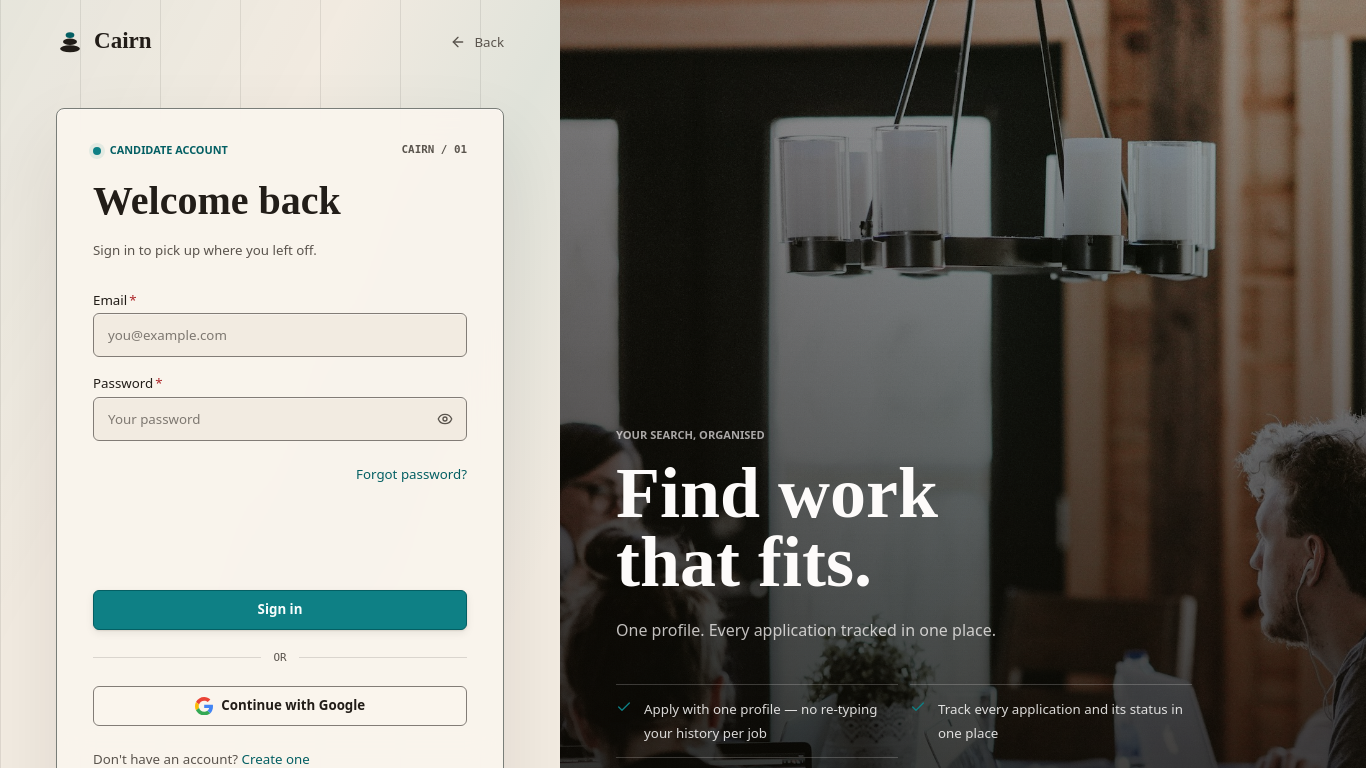
Test: auth forms with Turnstile enabled › issues a fresh challenge after a rejected login
This screenshot has width=1366, height=768.
Type "a@b.test" into the field labelled "Email*" at (280, 335), box [93, 313, 467, 357]
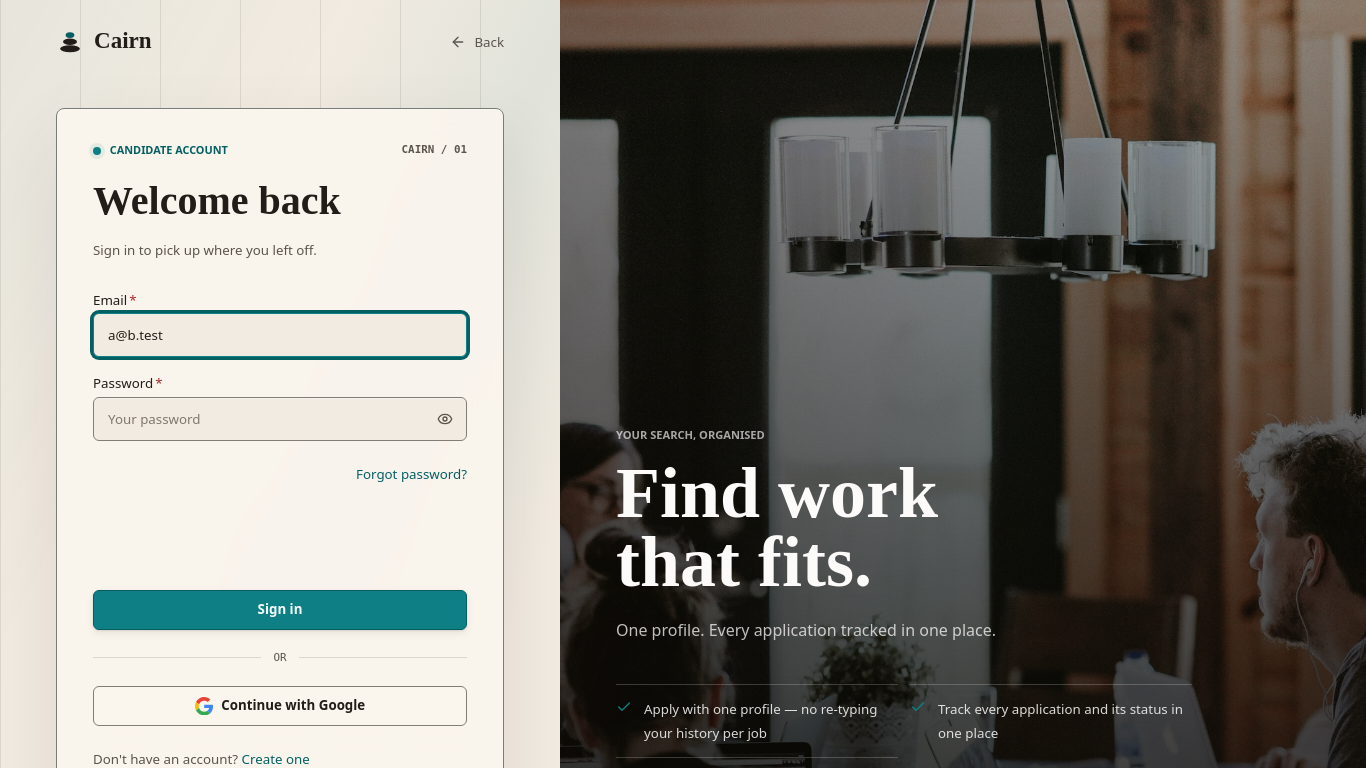
Type "password12345" into the password field labelled "Password*" at (280, 419), box [93, 397, 467, 441]
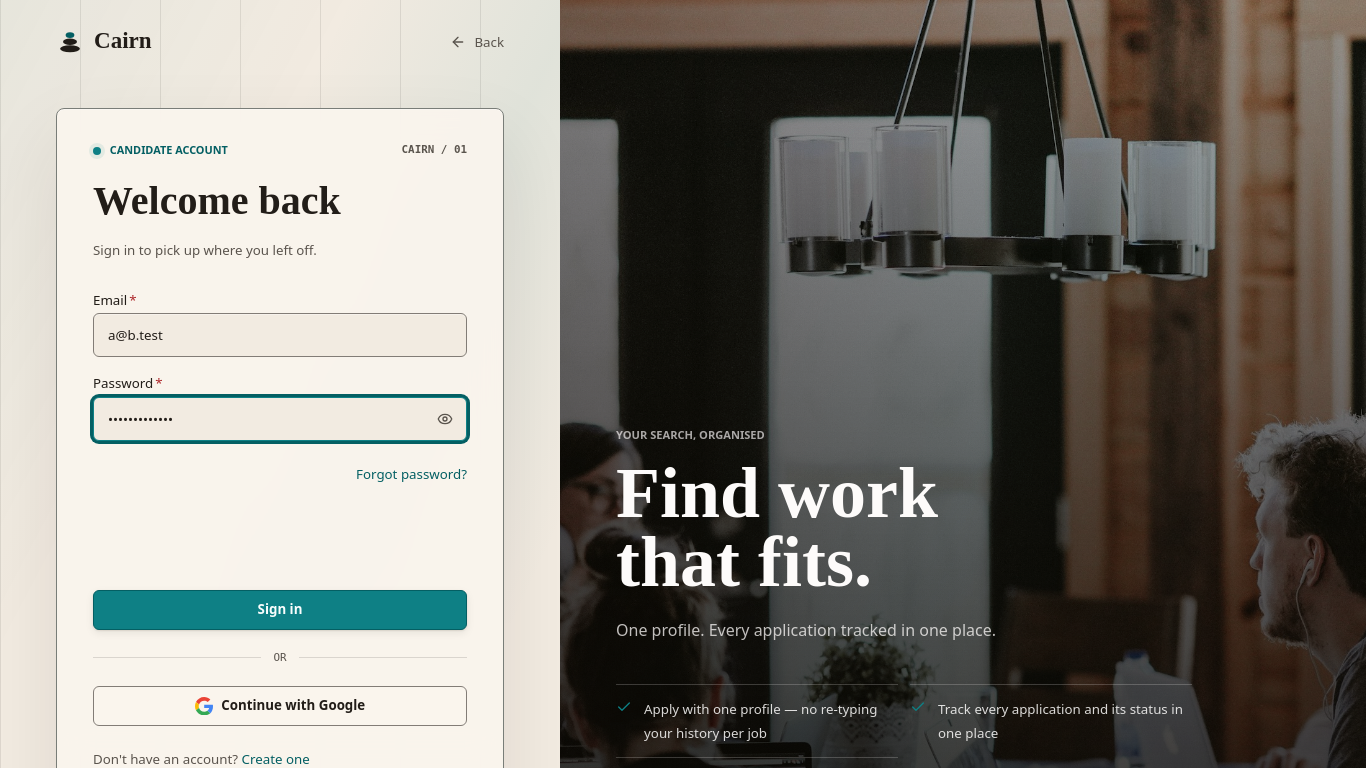
Click the button "Sign in" at (280, 610), box [93, 590, 467, 630]
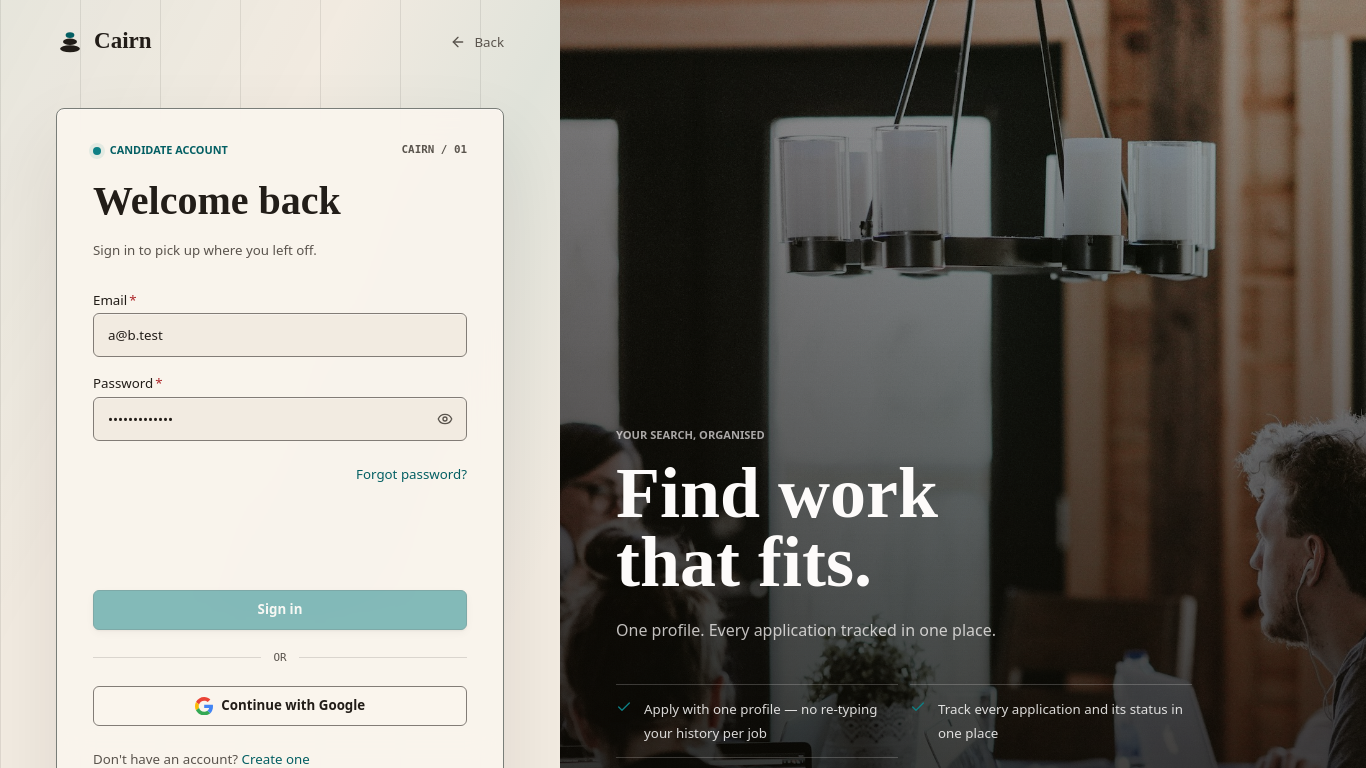
Expected: the button "Sign in" is disabled, [93, 590, 467, 630]
